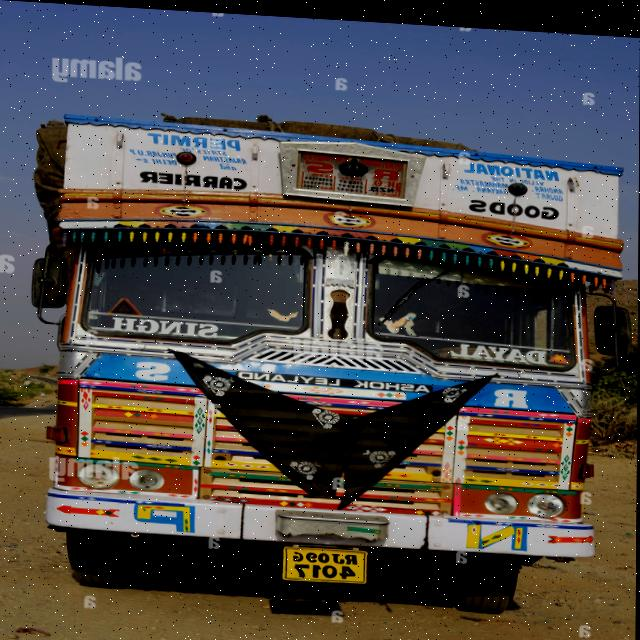plate: (277, 541, 368, 584)
